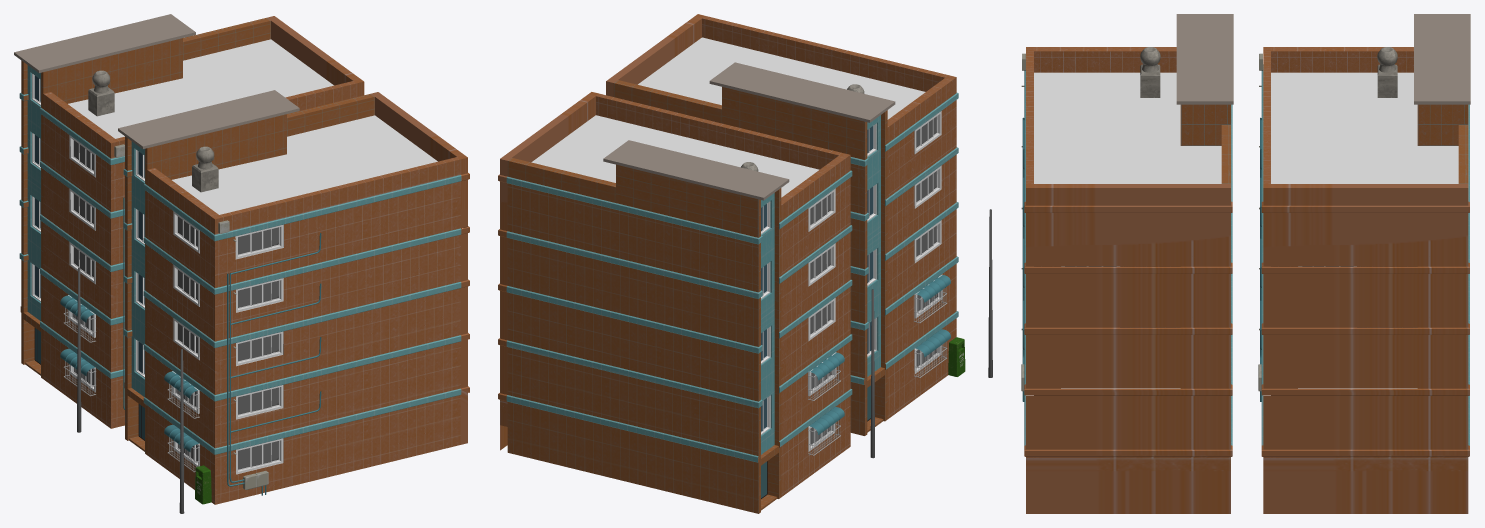
File: stage2_building2(no mat).fbx
3 renders of one model, left to right at view 1: azimuth 30°, elevation 25°; view 2: azimuth 150°, elevation 25°; view 3: azimuth 270°, elevation 25°, orthographic. The views are drawn at different scales.
Parts seen in each view (by area): view 1: Cube.252, Cube.002, Cube.007, Cube.016, Cube.008, Cube.020, Cube.001, Cube.006, Cube.140, Cube.117, Cube.019, Cube.139 (+17 smaller); view 2: Cube.002, Cube.252, Cube.007, Cube.016, Cube.008, Cube.020, Cube.001, NurbsPath.006, NurbsPath.015, Plane.003, Plane.002, Cube.005 (+9 smaller); view 3: Cube.008, Cube.007, Cube.252, Cube.016, Cube.002, Cube.006, Cube.018.
Part boxes in pixels (x1,y1,x2,y2): Cube.252: (42,81,461,504); Cube.002: (19,17,374,454); Cube.007: (68,39,437,214); Cube.016: (14,14,299,148); Cube.008: (267,16,469,444); Cube.020: (27,65,144,396); Cube.001: (69,135,199,253); Cube.006: (88,87,218,192); Cube.140: (236,438,283,474); Cube.117: (235,224,283,259); Cube.019: (236,278,283,312); Cube.139: (236,385,283,419); Cube.002: (506,80,888,513); Cube.252: (596,16,958,496); Cube.007: (531,37,925,197); Cube.016: (603,62,895,200); Cube.008: (498,14,704,450); Cube.020: (761,115,880,454); Cube.001: (808,111,941,231); NurbsPath.006: (808,342,947,455); NurbsPath.015: (808,287,947,400); Plane.003: (809,329,950,434); Plane.002: (809,275,950,380); Cube.005: (810,170,937,280); Cube.008: (1024,184,1469,513); Cube.007: (1034,72,1458,183); Cube.252: (1024,47,1417,445); Cube.016: (1176,14,1470,104); Cube.002: (1180,104,1469,445); Cube.006: (1140,64,1397,97); Cube.018: (1140,47,1397,72).
Size of the model in its own units: 4077 by 4209 by 4806.
